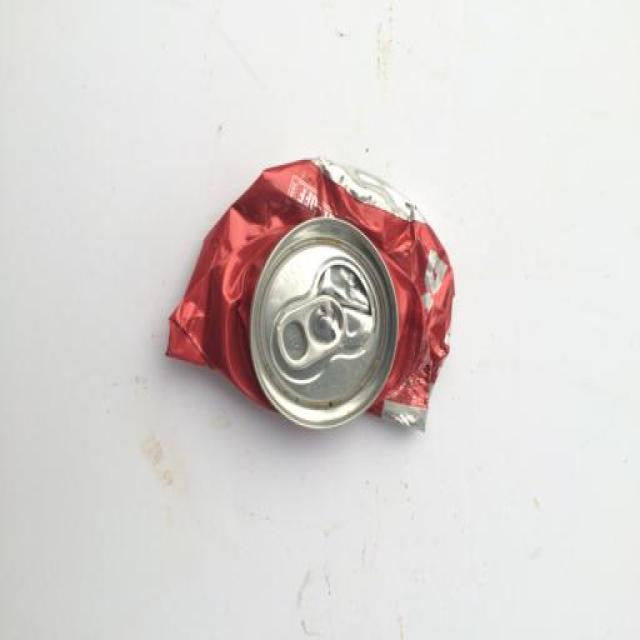Metal: (165, 157, 455, 432)
